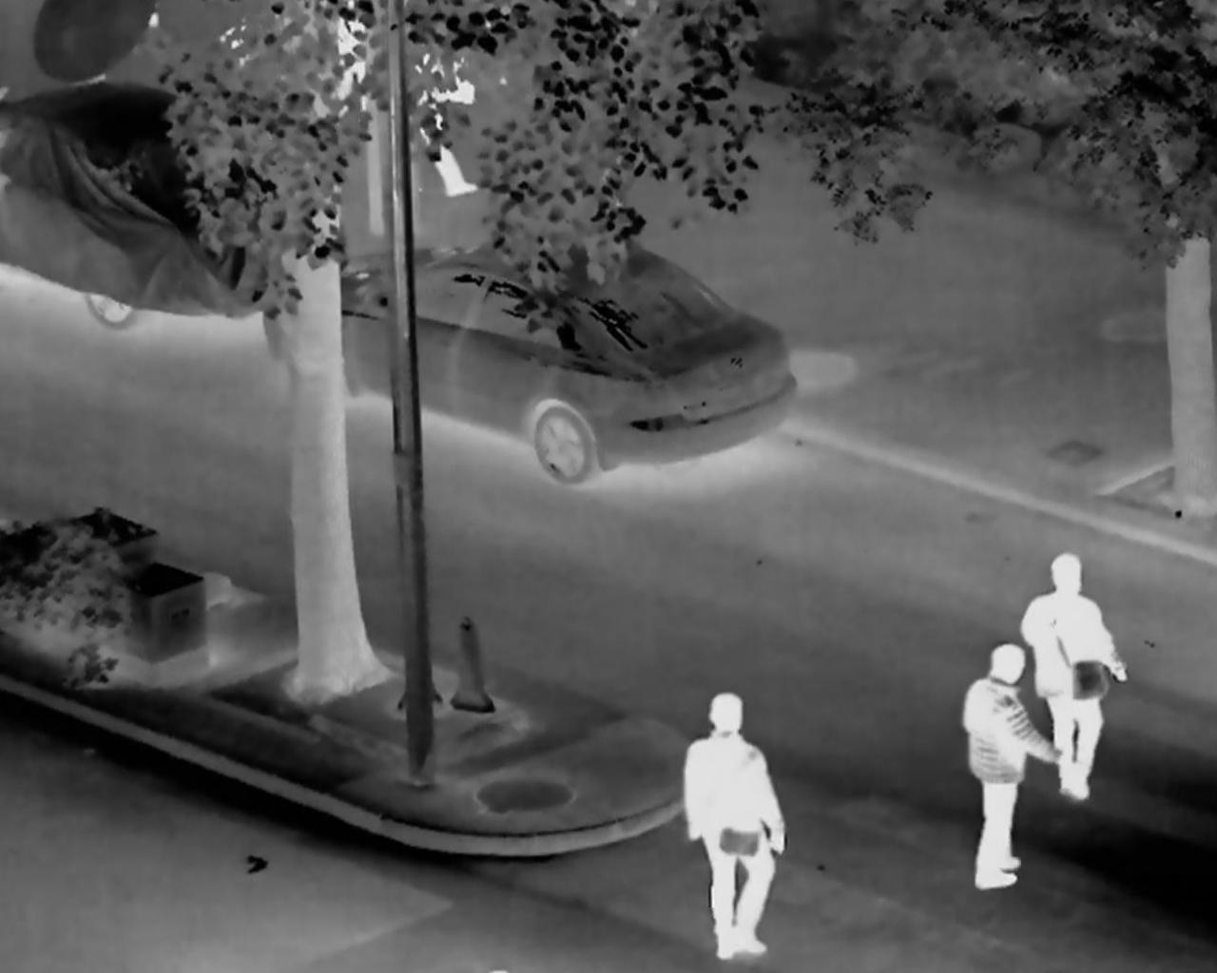person: (683, 690, 786, 962), (1021, 552, 1130, 802), (963, 644, 1071, 887), (404, 30, 495, 200)
